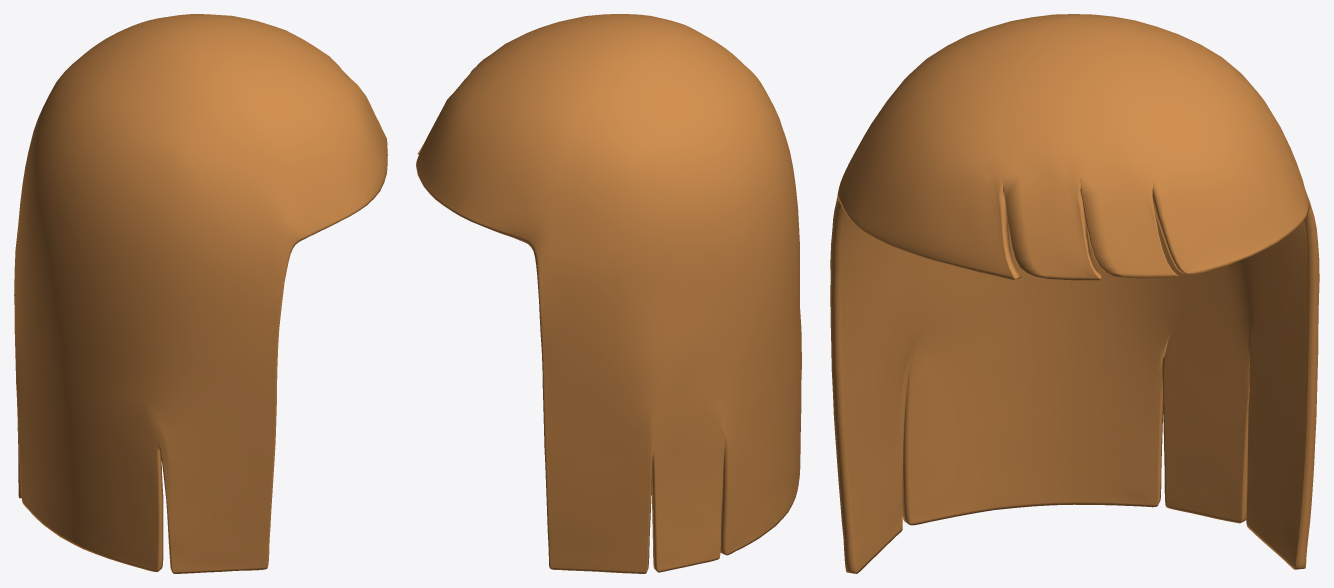
The model's file is haerinhairfbx.fbx.
The picture shows the model from 3 angles, left to right: view 1: azimuth 30°, elevation 25°; view 2: azimuth 150°, elevation 25°; view 3: azimuth 270°, elevation 25°; orthographic projection. The views are drawn at different scales.
Parts seen in each view (by area): view 1: haerinhair; view 2: haerinhair; view 3: haerinhair.
Part boxes in pixels (box(x1,y1,x2,y2)): haerinhair: box(14, 14, 387, 573); haerinhair: box(416, 14, 801, 573); haerinhair: box(830, 14, 1319, 573).
Bounding box in the file's own units: 447 × 613 × 485.
